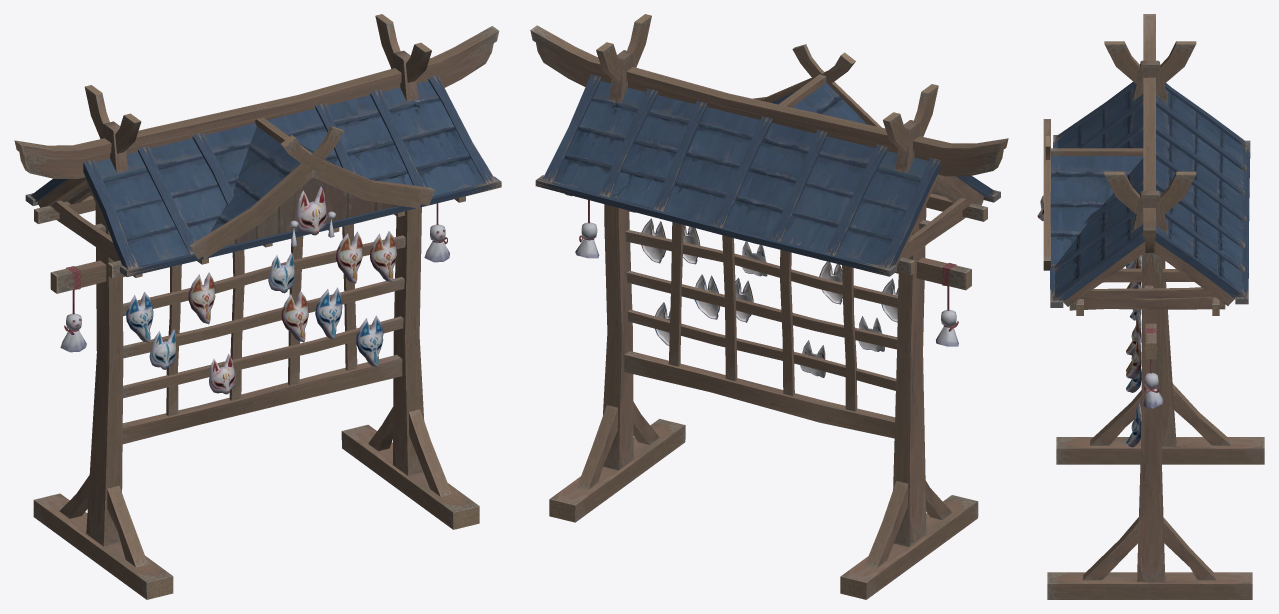
File: Homeworld_Exterior_Dq_Build_House_38_Lod0.fbx
3 views of the same model, side by side, from view 1: azimuth 30°, elevation 25°; view 2: azimuth 150°, elevation 25°; view 3: azimuth 270°, elevation 25° (orthographic). The views are drawn at different scales.
Parts seen in each view (by area): view 1: Area_Dq_Prop_Common_TanWei_04_Lod0; view 2: Area_Dq_Prop_Common_TanWei_04_Lod0; view 3: Area_Dq_Prop_Common_TanWei_04_Lod0.
Boxes of the visible parts, <box> form: Area_Dq_Prop_Common_TanWei_04_Lod0: <box>14,14,501,599</box>; Area_Dq_Prop_Common_TanWei_04_Lod0: <box>530,14,1008,599</box>; Area_Dq_Prop_Common_TanWei_04_Lod0: <box>1037,14,1264,599</box>.
Bounding box in the file's own units: 3.4 × 3.08 × 1.52.
1 material, 1 textured.
